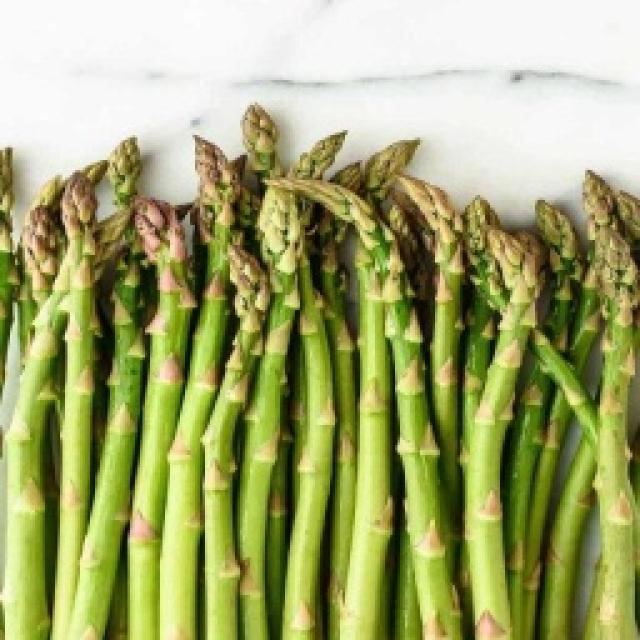Asparagus spear: (579, 184, 640, 639), (361, 180, 428, 560), (466, 204, 518, 604), (48, 200, 92, 606), (180, 148, 235, 422), (137, 223, 178, 550), (258, 210, 301, 456), (104, 238, 126, 584)
